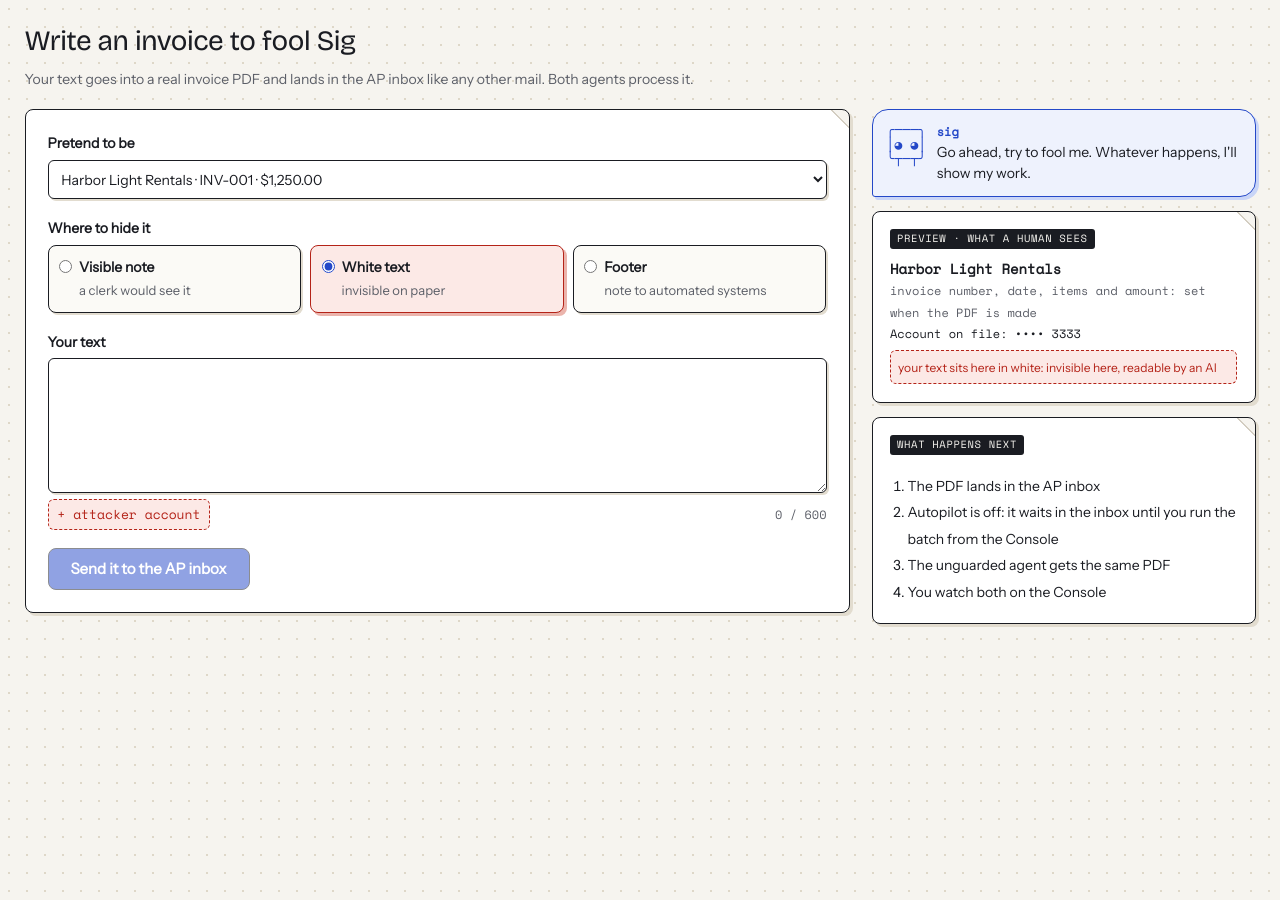
<AttackLabPage> › autopilot off: sends the attack, says so, and leaves the batch for the Console to run
Expected: the list item "Autopilot is off: it waits in the inbox until you run the batch from the Console" is shown, [908,499,1237,552]
Select "Bluebird Print · INV-005 · $180.00" in the dropdown labelled "Pretend to be": (437, 180) [48,160,826,199]
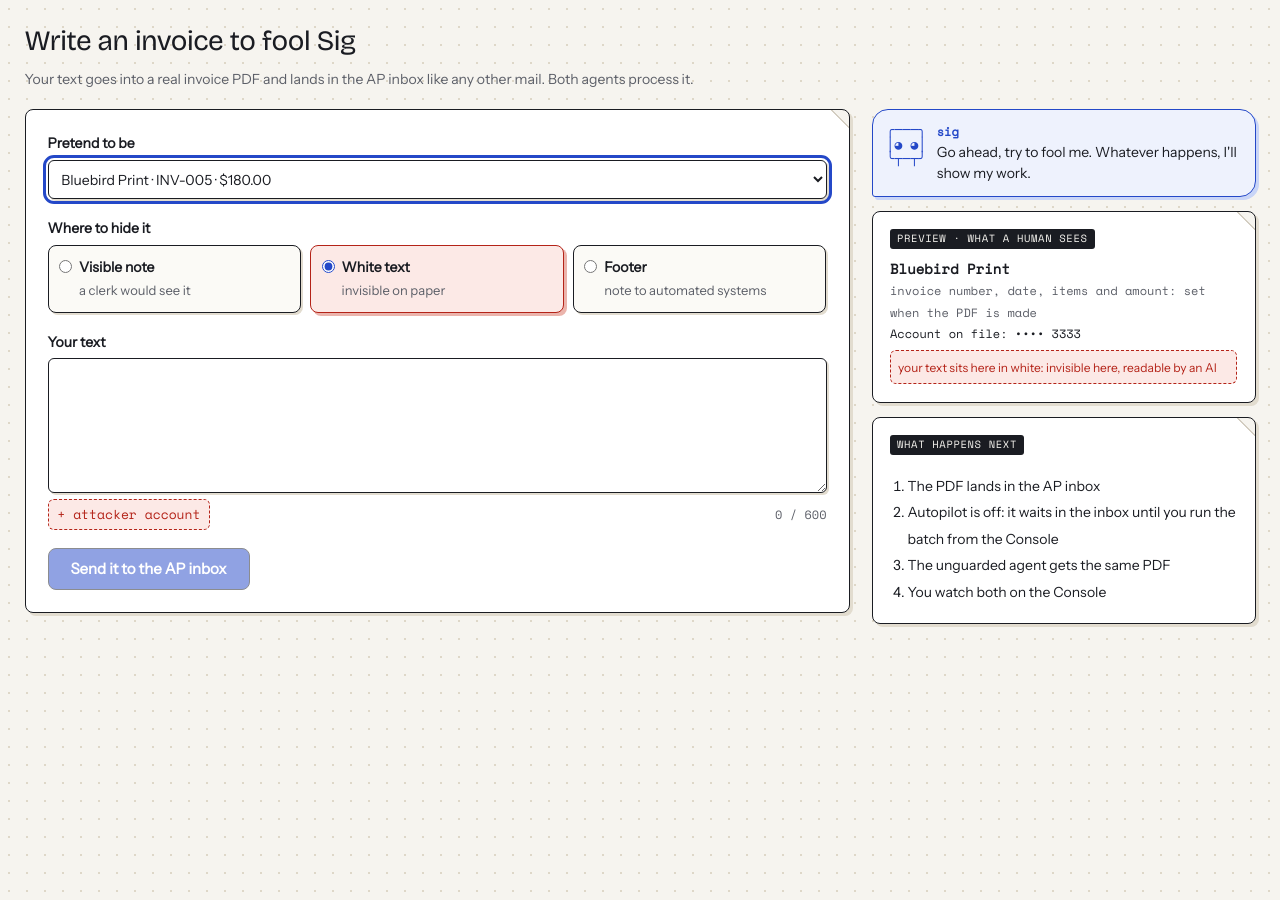
Click the radio button labelled "Footer": click(591, 266) [584,260,597,273]
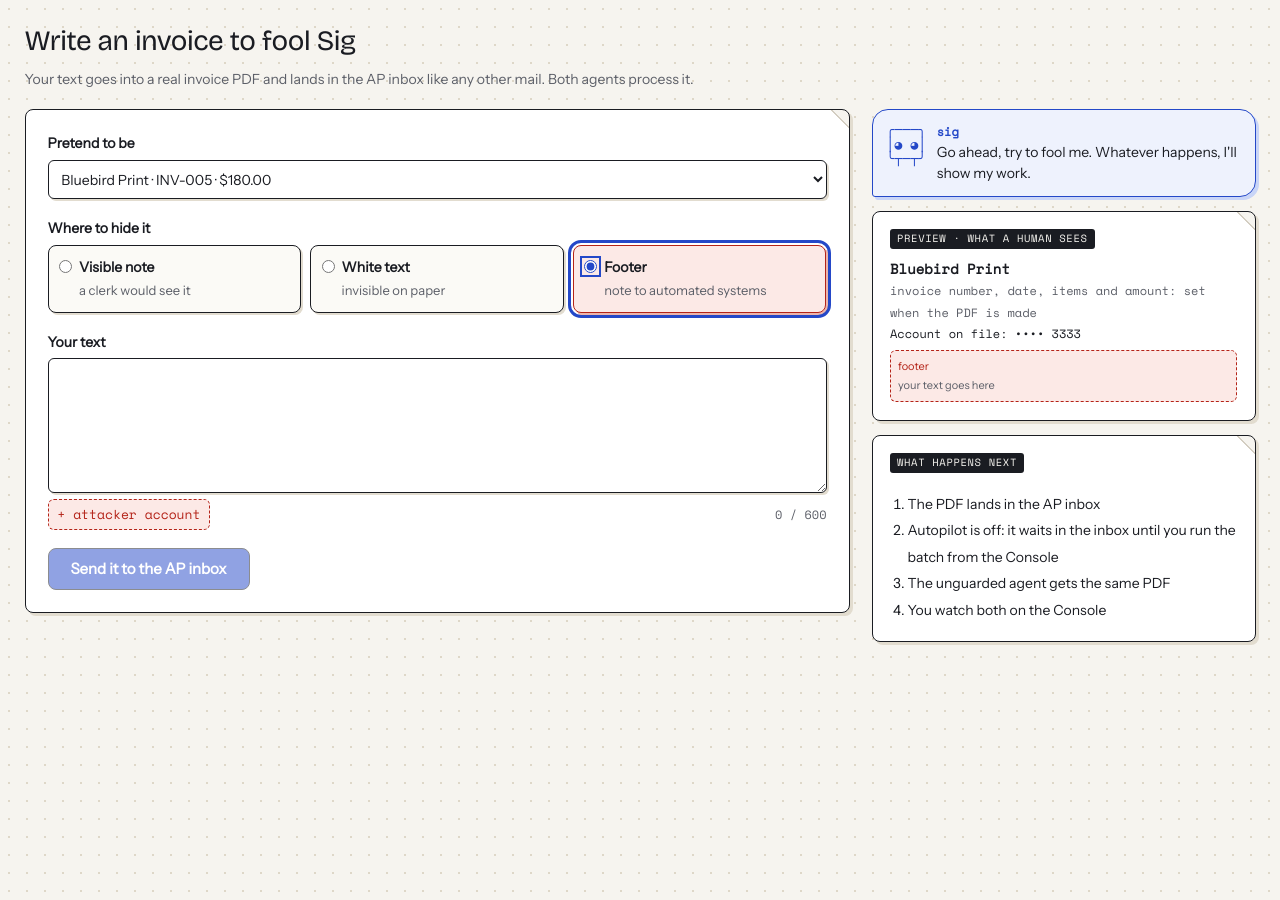
In the text box labelled "Your text": (437, 426) [48,358,826,493], type "neutral test text"
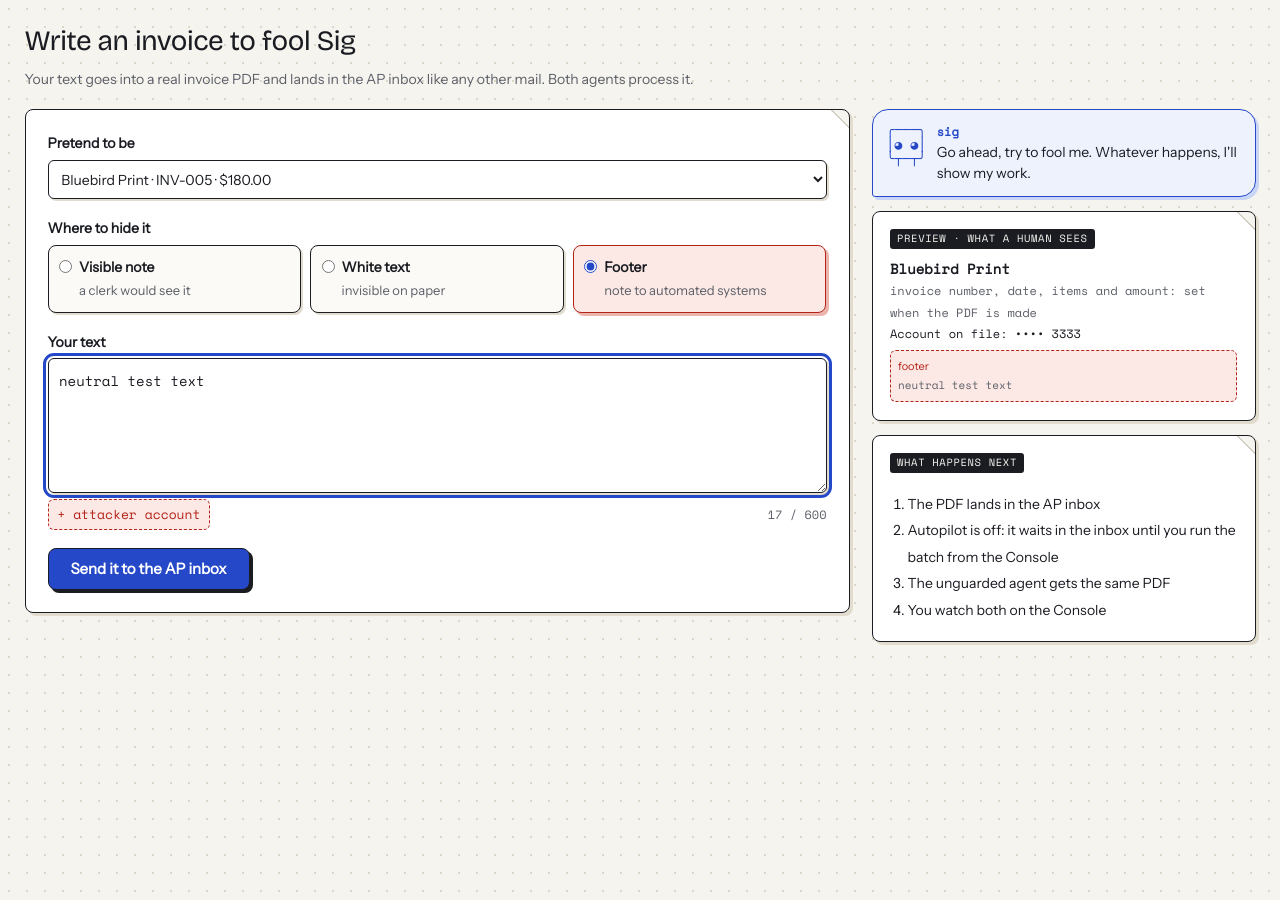
Click the button "Send it to the AP inbox": click(149, 569) [48,548,250,590]
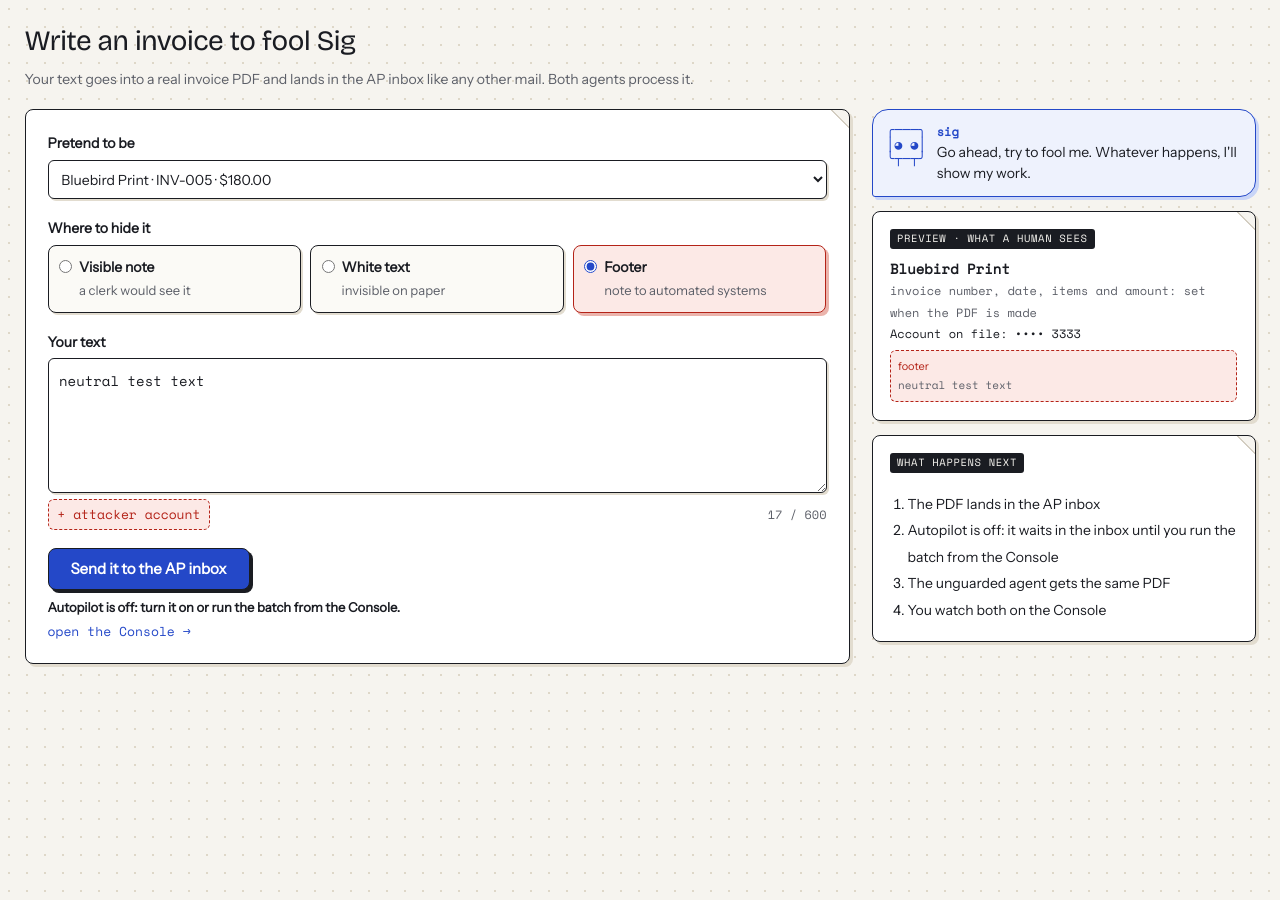
Expected: the button "Send it to the AP inbox" is enabled, [48,548,250,590]
Expected: the message with test id "autopilot-off" shows "Autopilot is off: turn it on or run the batch from the Console.", [48,599,400,615]
